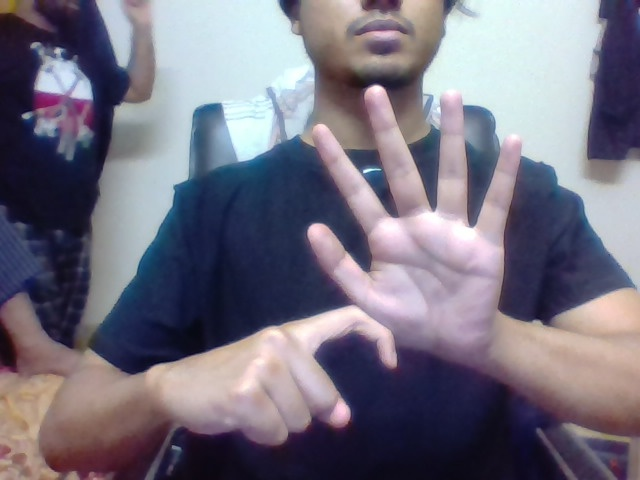R: (275, 298, 401, 424)
